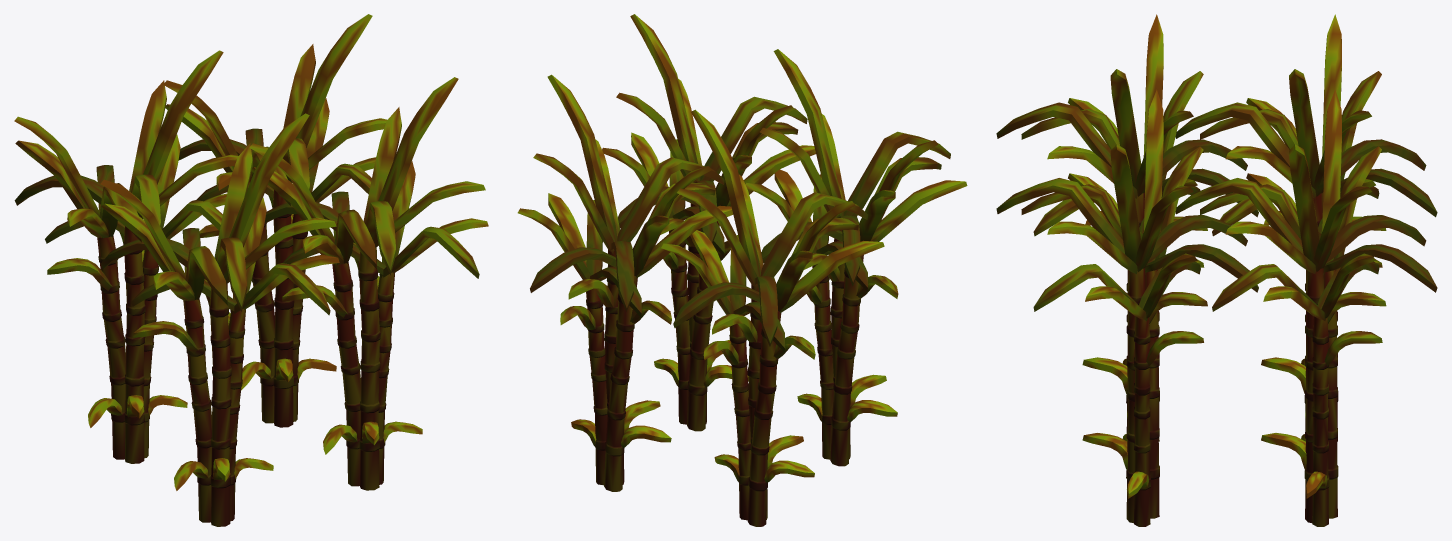
Rendered from Farm_Crop_Sugurcane_Dead.fbx.
3 renders of one model, left to right at view 1: azimuth 30°, elevation 25°; view 2: azimuth 150°, elevation 25°; view 3: azimuth 270°, elevation 25°, orthographic. The views are drawn at different scales.
Visible parts, largest first — view 1: Farm_Crop_Sugurcane_Dead; view 2: Farm_Crop_Sugurcane_Dead; view 3: Farm_Crop_Sugurcane_Dead.
Part boxes in pixels (box(x1,y1,x2,y2)): Farm_Crop_Sugurcane_Dead: box(14, 14, 488, 526); Farm_Crop_Sugurcane_Dead: box(517, 14, 967, 526); Farm_Crop_Sugurcane_Dead: box(996, 14, 1437, 526).
Size of the model in its own units: 238 by 256 by 247.
